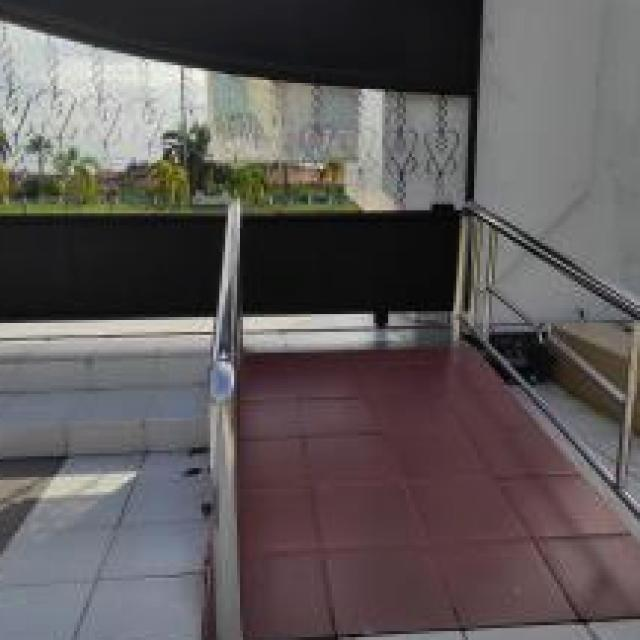upstair: (245, 344, 605, 603)
